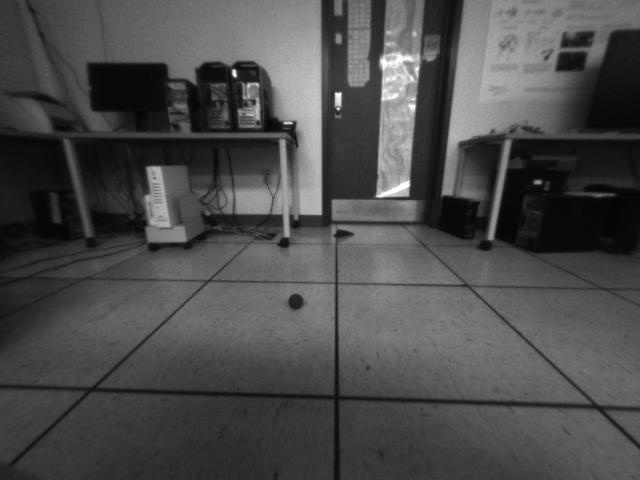dogtoy: (283, 288, 310, 313)
